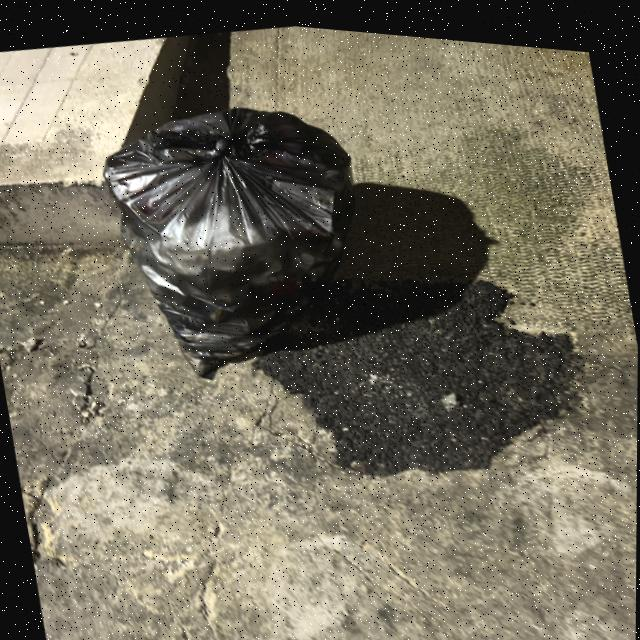Mixed Waste -Black Bag-: (90, 75, 384, 401)
